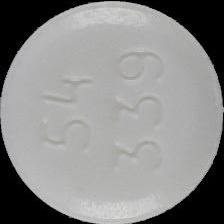0054-4742: (0, 0, 224, 224)
